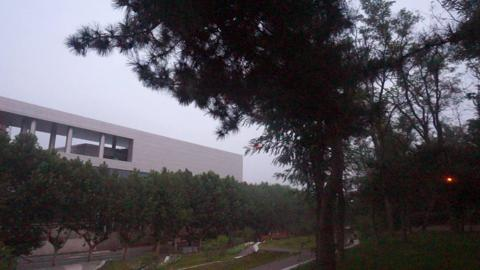UAV: (250, 146, 261, 151)
